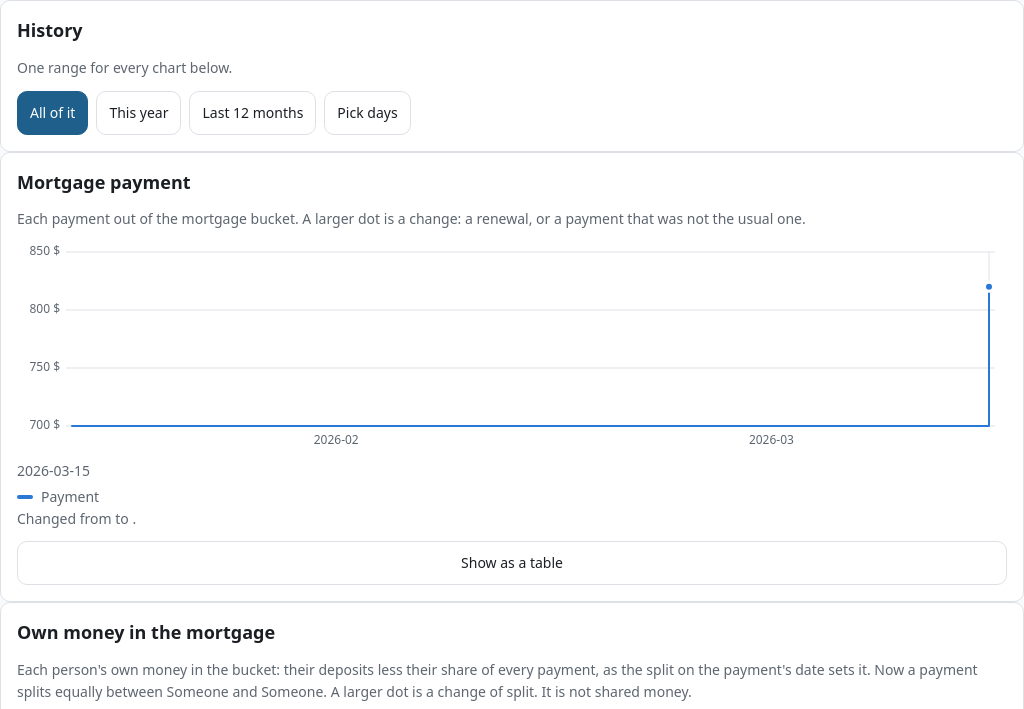
Test: days picked by hand are sent, and a first day after the last is not
Click the button "Pick days": [368, 113] box [324,91,411,135]
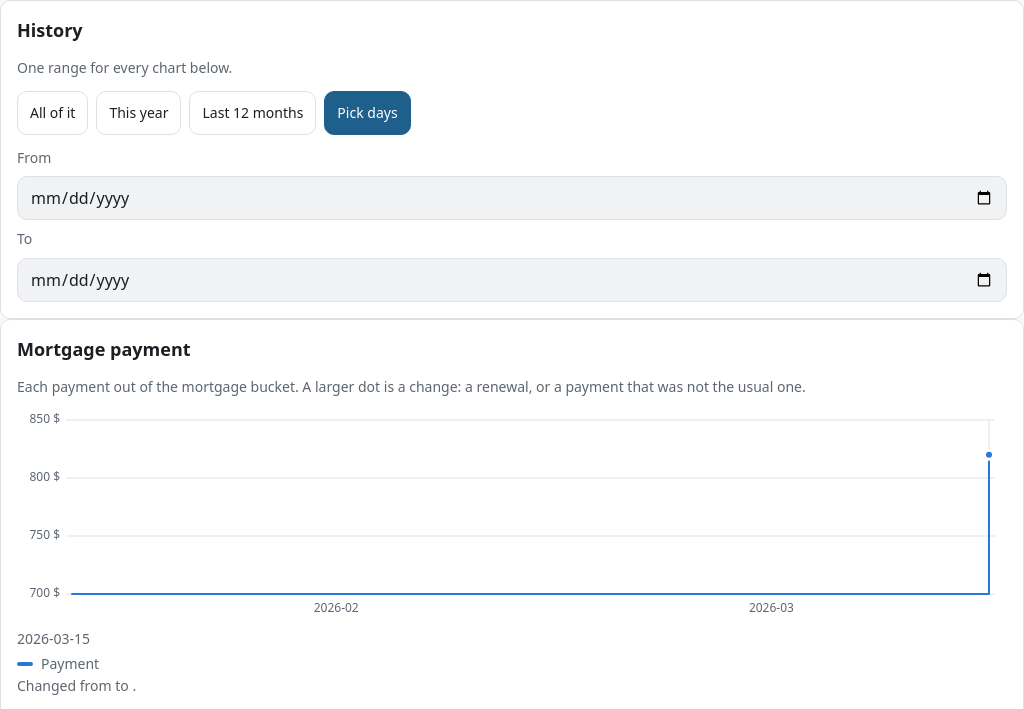
In the date field labelled "From": [512, 198] box [17,176,1007,220], type "2026-02-01"
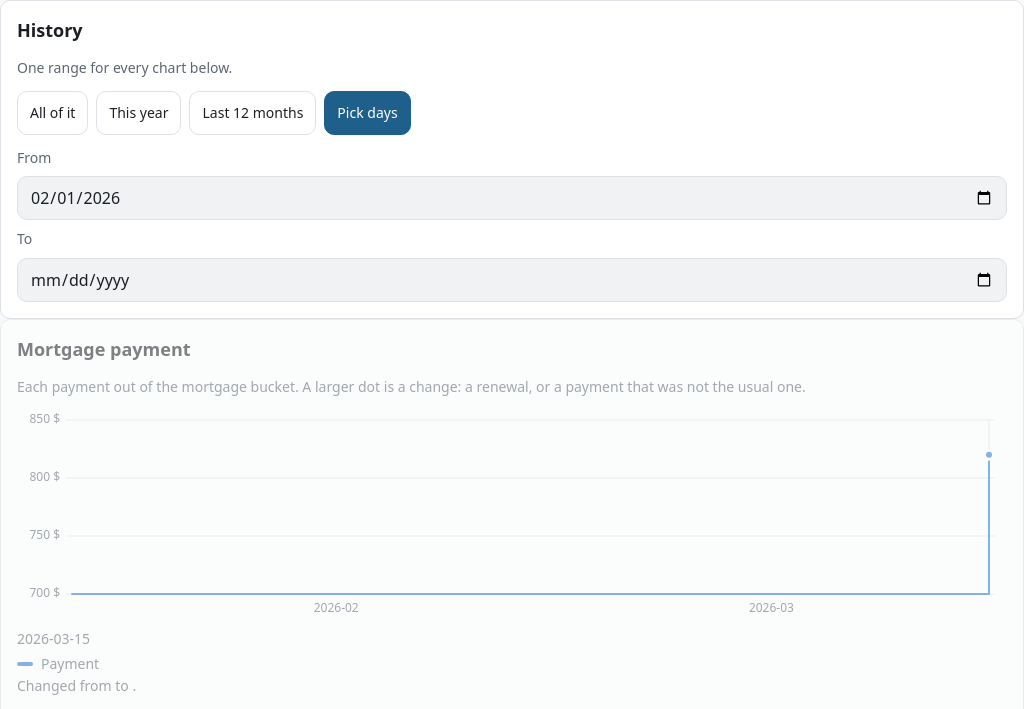
In the date field labelled "To": [512, 280] box [17,258,1007,302], type "2026-03-01"
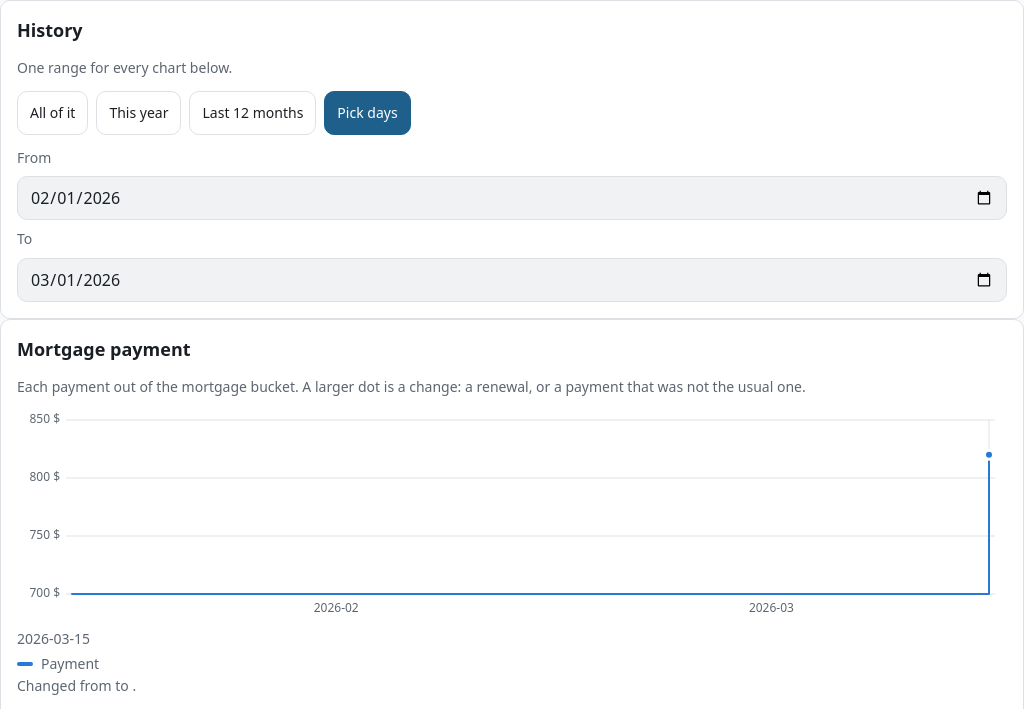
In the date field labelled "To": [512, 280] box [17,258,1007,302], type "2026-01-01"
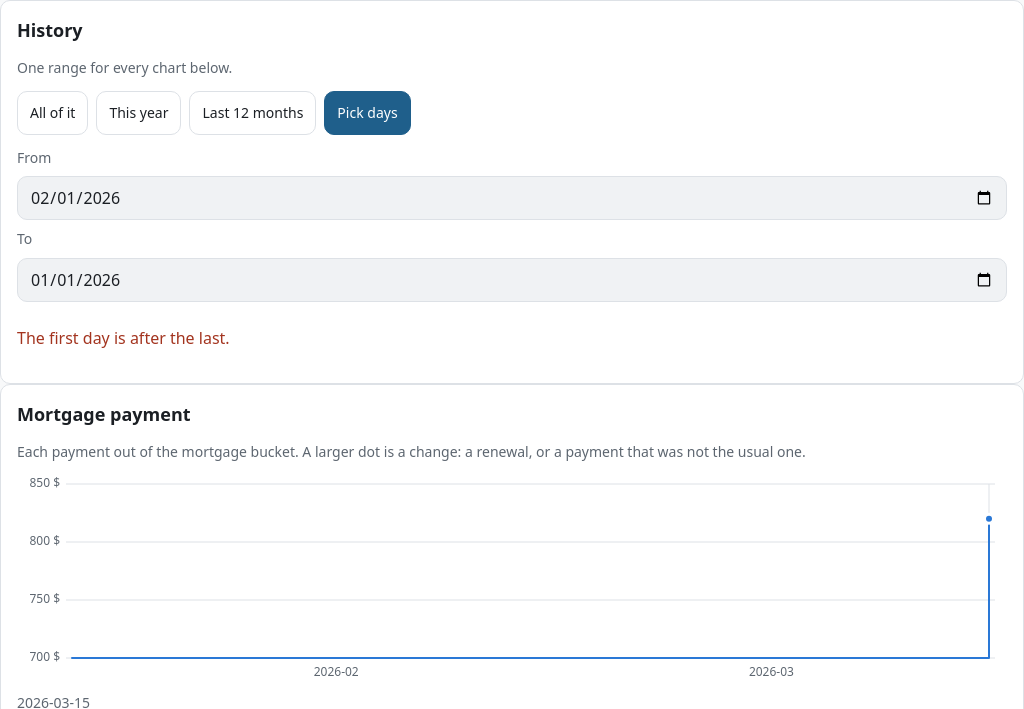
Result: the message reads "The first day is after the last." at [17,327,230,349]
